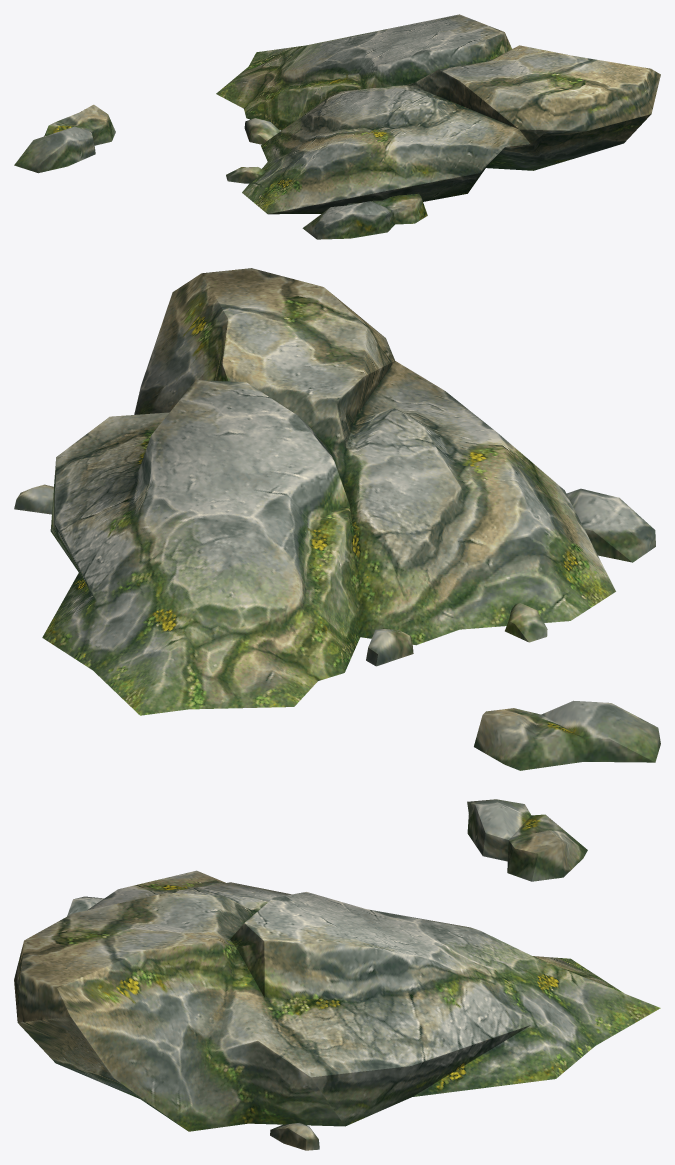
File: 4004_Item_shitou_2.FBX
3 views of the same model, one above another, from view 1: azimuth 30°, elevation 25°; view 2: azimuth 150°, elevation 25°; view 3: azimuth 270°, elevation 25° (orthographic). The views are drawn at different scales.
Visible parts, largest first — view 1: 4004_Item_shitou_2; view 2: 4004_Item_shitou_2; view 3: 4004_Item_shitou_2.
Boxes of the visible parts, x1=… form: 4004_Item_shitou_2: x1=14, y1=14, x2=660, y2=239; 4004_Item_shitou_2: x1=14, y1=268, x2=660, y2=770; 4004_Item_shitou_2: x1=14, y1=799, x2=660, y2=1150.
Size of the model in its own units: 290 by 56.22 by 231.
